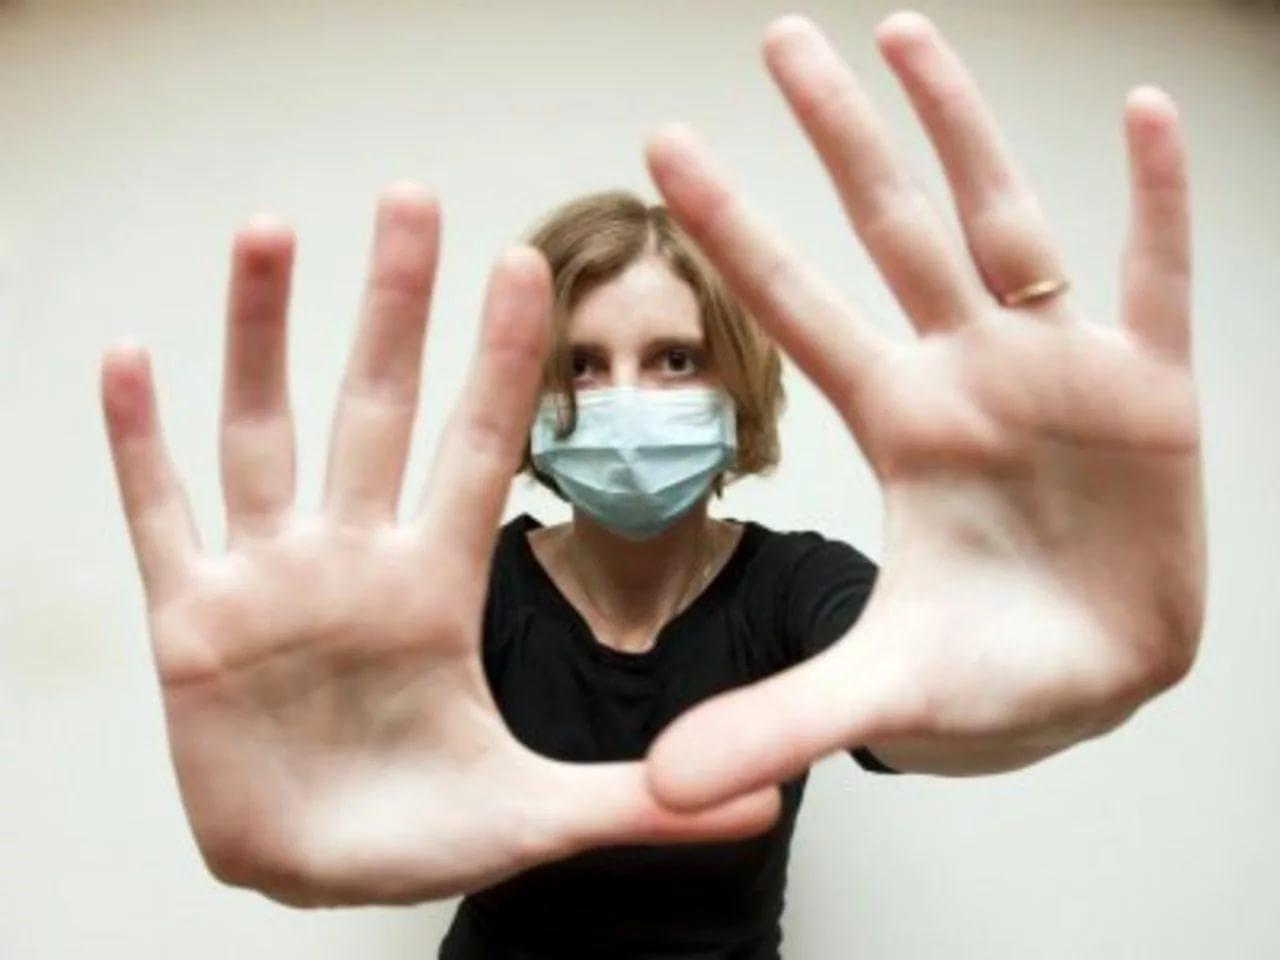mask: (518, 273, 740, 530)
